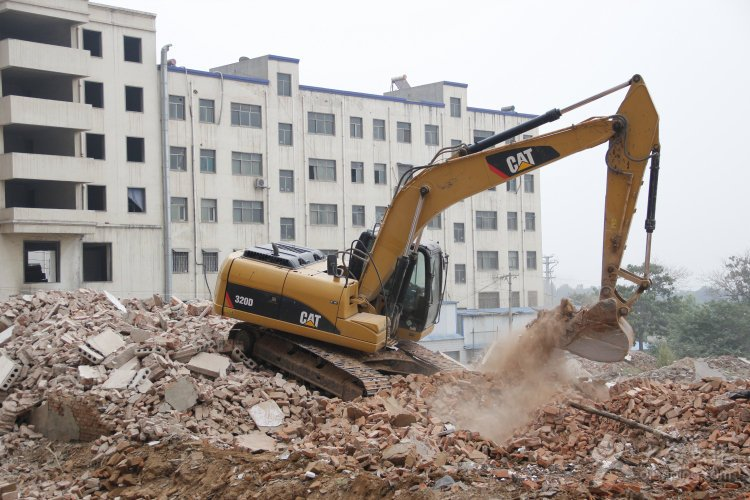excavator: (210, 69, 679, 421)
